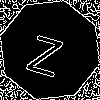Z: (25, 25, 67, 78)
